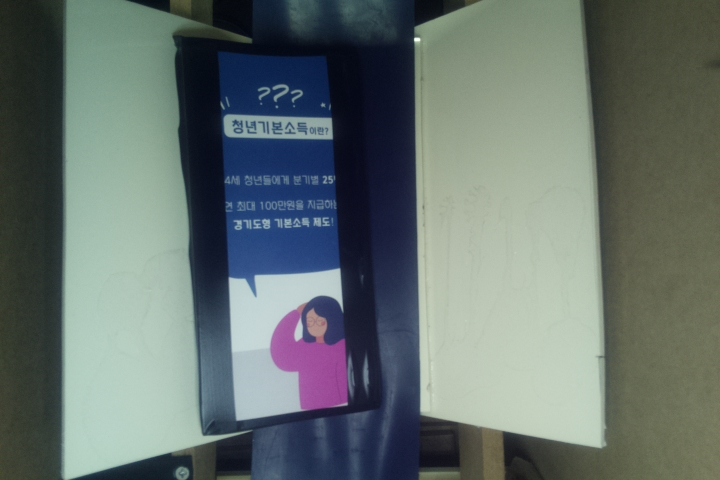book: (173, 39, 375, 438)
